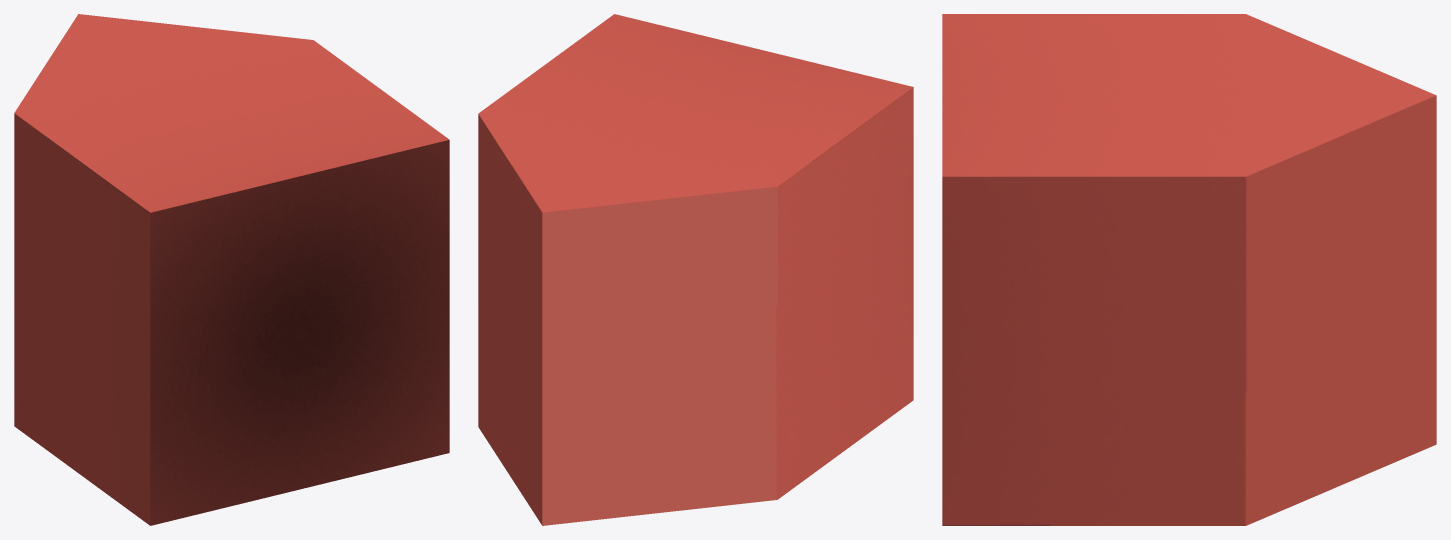
File: house.obj
3 views of the same model, side by side, from view 1: azimuth 30°, elevation 25°; view 2: azimuth 150°, elevation 25°; view 3: azimuth 270°, elevation 25° (orthographic). The views are drawn at different scales.
Visible parts, largest first — view 1: Plane.007_Plane.003; view 2: Plane.007_Plane.003; view 3: Plane.007_Plane.003.
Boxes of the visible parts, left/top/right/bottom form: Plane.007_Plane.003: left=14, top=14, right=449, bottom=525; Plane.007_Plane.003: left=478, top=14, right=913, bottom=525; Plane.007_Plane.003: left=942, top=14, right=1436, bottom=525.
Bounding box in the file's own units: 10 × 10 × 12.83.
1 material, 1 textured.
